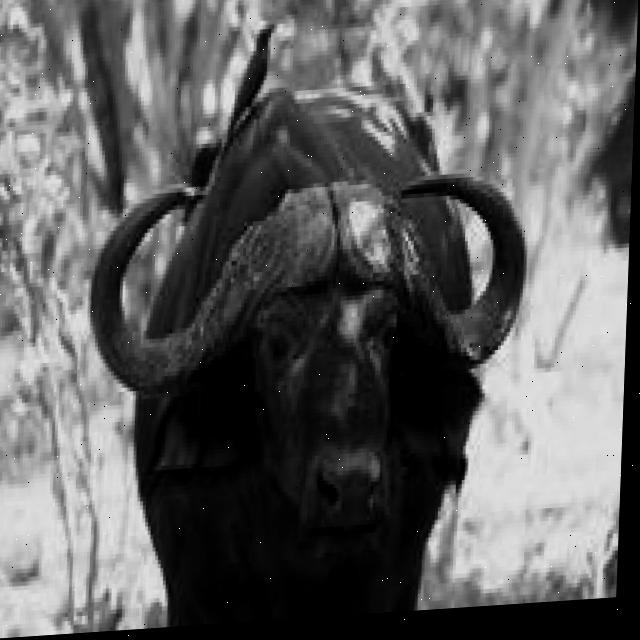Buffalo: (79, 66, 540, 633)
